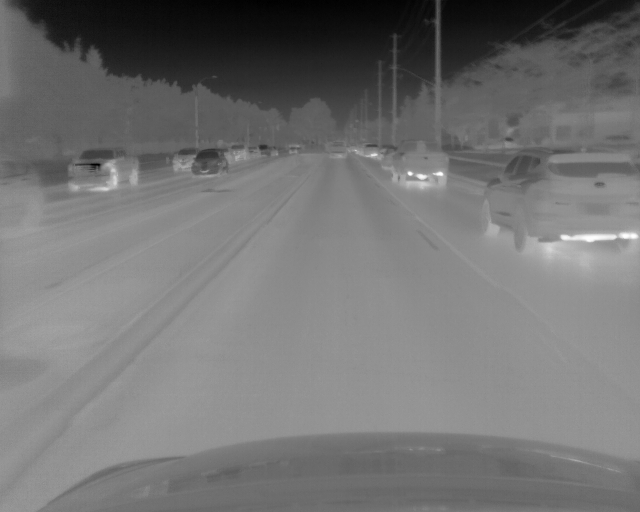car: (479, 147, 640, 254), (68, 147, 138, 194), (1, 158, 45, 221), (392, 141, 448, 188), (191, 150, 227, 176), (173, 147, 195, 171), (328, 141, 346, 157), (360, 143, 377, 157), (232, 143, 245, 161), (380, 149, 391, 169), (248, 144, 259, 158), (259, 145, 271, 156)
